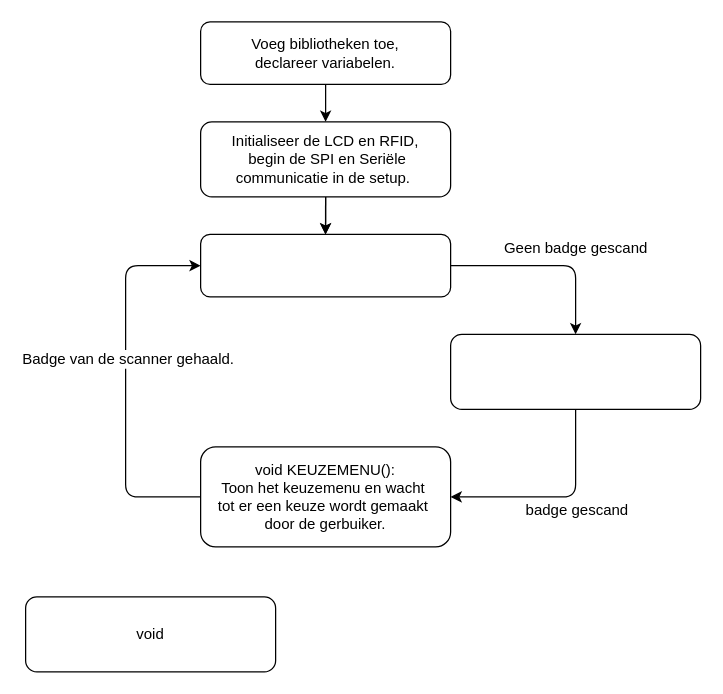
The diagram is 723 pixels wide and 694 high, and some of its shapes have lost their labels. Here are the shapes that lost their labels. From the top down, the box of each, then its label:
(199, 233, 451, 297): void loop(): Kijk of er een badge gescand is.
(449, 333, 701, 409): void RFIDSCAN(): Blijf controleren of er en badge op de scanner ligt.
